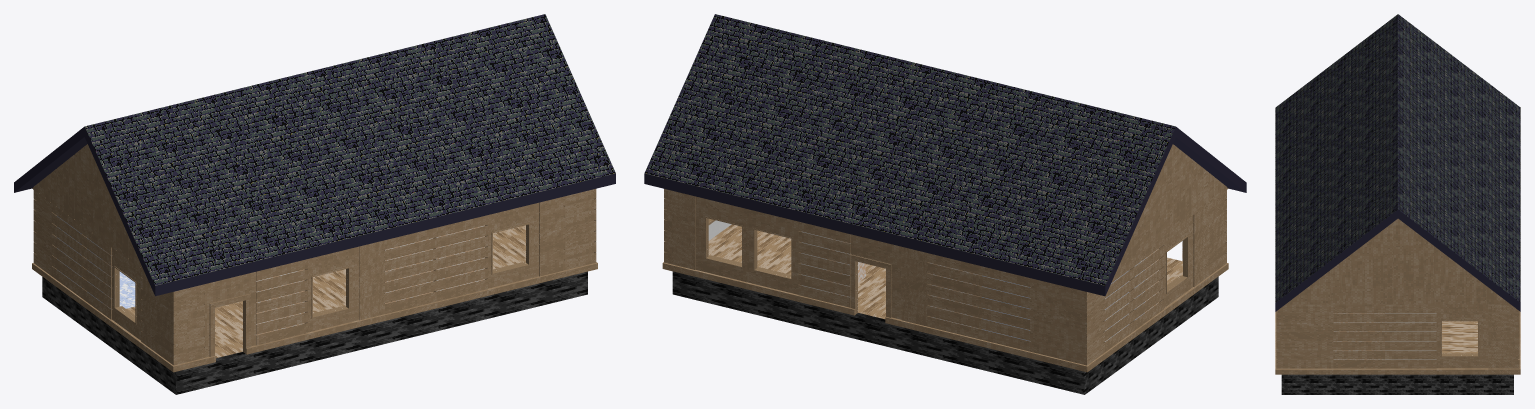
File: house.fbx
The picture shows the model from 3 angles, left to right: view 1: azimuth 30°, elevation 25°; view 2: azimuth 150°, elevation 25°; view 3: azimuth 270°, elevation 25°; orthographic projection. The views are drawn at different scales.
Parts seen in each view (by area): view 1: Roof, Foundation, Right Long Corner Wall Outside/Inside.001, Long Wall Outside/Inside.008, Long Wall Outside/Inside.009, Long Wall Outside/Inside.010, Left Window Frame..004, Left Window Frame..003, Center Door Frame.001, Left Long Corner Wall Outside/Inside.001, Long Wall Outside/Inside.001, Long Wall Outside/Inside.002 (+4 smaller); view 2: Roof, Foundation, Right Long Corner Wall Outside/Inside.002, Long Wall Outside/Inside.005, Long Wall Outside/Inside.004, Long Wall Outside/Inside.003, Right Window Frame.001, Center Window Frame.001, Right Long Corner Wall Outside/Inside.001, Left Door Frame..001, Left Short Corner Wall Outside/Inside.001, Long Wall Outside/Inside.001 (+3 smaller); view 3: Roof, Foundation, Left Long Corner Wall Outside/Inside.001, Long Wall Outside/Inside.007, Long Wall Outside/Inside.006, Left Window Frame..002, Left Short Corner Wall Outside/Inside.001.
Part boxes in pixels (box(x1,y1,x2,y2)): Roof: box(14, 14, 615, 296); Foundation: box(42, 225, 587, 394); Right Long Corner Wall Outside/Inside.001: box(140, 269, 205, 372); Long Wall Outside/Inside.008: box(433, 215, 488, 308); Long Wall Outside/Inside.009: box(384, 227, 437, 320); Long Wall Outside/Inside.010: box(255, 259, 308, 351); Left Window Frame..004: box(304, 246, 359, 339); Left Window Frame..003: box(488, 202, 540, 295); Center Door Frame.001: box(204, 272, 256, 364); Left Long Corner Wall Outside/Inside.001: box(565, 189, 597, 276); Long Wall Outside/Inside.001: box(80, 225, 112, 325); Long Wall Outside/Inside.002: box(50, 204, 81, 303); Roof: box(644, 14, 1246, 296); Foundation: box(672, 224, 1218, 394); Right Long Corner Wall Outside/Inside.002: box(1029, 278, 1105, 372); Long Wall Outside/Inside.005: box(797, 221, 850, 313); Long Wall Outside/Inside.004: box(926, 253, 981, 345); Long Wall Outside/Inside.003: box(978, 265, 1030, 358); Right Window Frame.001: box(694, 196, 747, 288); Center Window Frame.001: box(746, 209, 801, 301); Right Long Corner Wall Outside/Inside.001: box(1192, 190, 1228, 292); Left Door Frame..001: box(849, 234, 902, 326); Left Short Corner Wall Outside/Inside.001: box(662, 189, 695, 276); Long Wall Outside/Inside.001: box(1129, 236, 1165, 336); Roof: box(1275, 14, 1520, 311); Foundation: box(1281, 321, 1513, 394); Left Long Corner Wall Outside/Inside.001: box(1275, 304, 1333, 374); Long Wall Outside/Inside.007: box(1333, 304, 1384, 374); Long Wall Outside/Inside.006: box(1385, 304, 1436, 374); Left Window Frame..002: box(1436, 304, 1488, 374); Left Short Corner Wall Outside/Inside.001: box(1488, 304, 1520, 374).
Bounding box in the file's own units: 1790 × 837 × 951.
